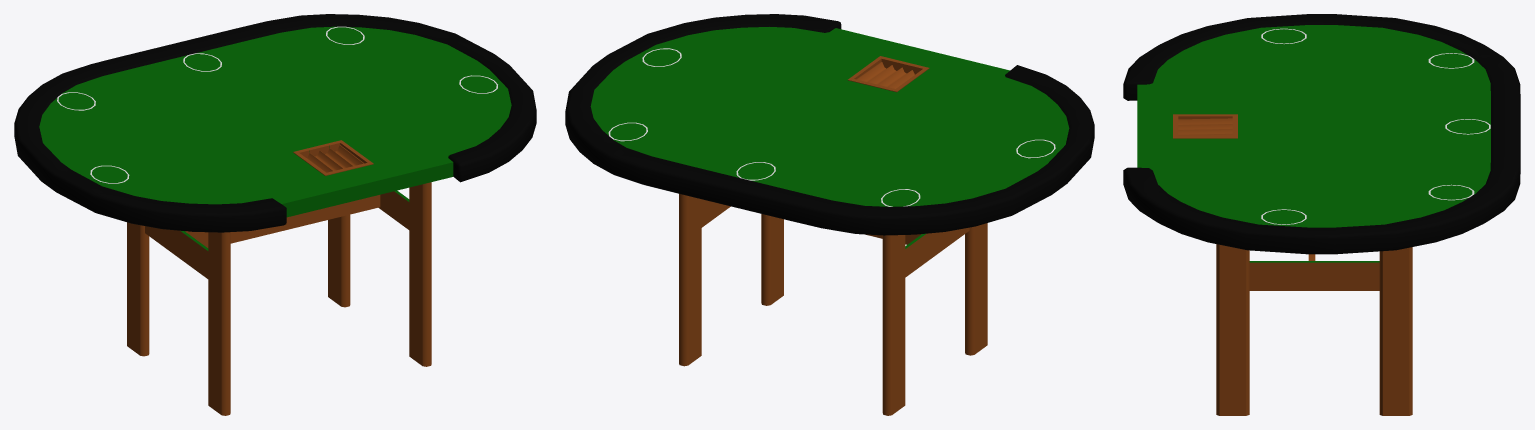
File: CasinoTableTemp.fbx
The picture shows the model from 3 angles, left to right: view 1: azimuth 30°, elevation 25°; view 2: azimuth 150°, elevation 25°; view 3: azimuth 270°, elevation 25°; orthographic projection.
Visible parts, largest first — view 1: CasinoTable; view 2: CasinoTable; view 3: CasinoTable.
Part boxes in pixels (x1,y1,x2,y2): CasinoTable: [14, 14, 536, 415]; CasinoTable: [565, 14, 1094, 415]; CasinoTable: [1123, 14, 1520, 415].
Size of the model in its own units: 200 by 100 by 150.
